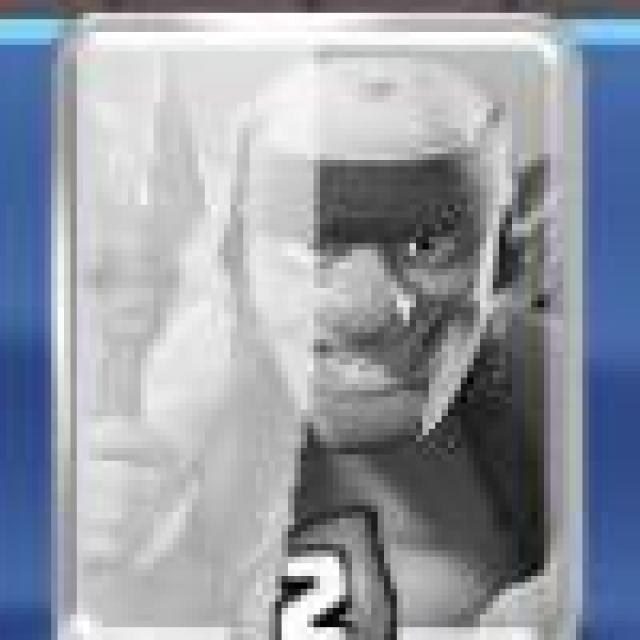Spear_Goblins: (44, 16, 581, 640)
